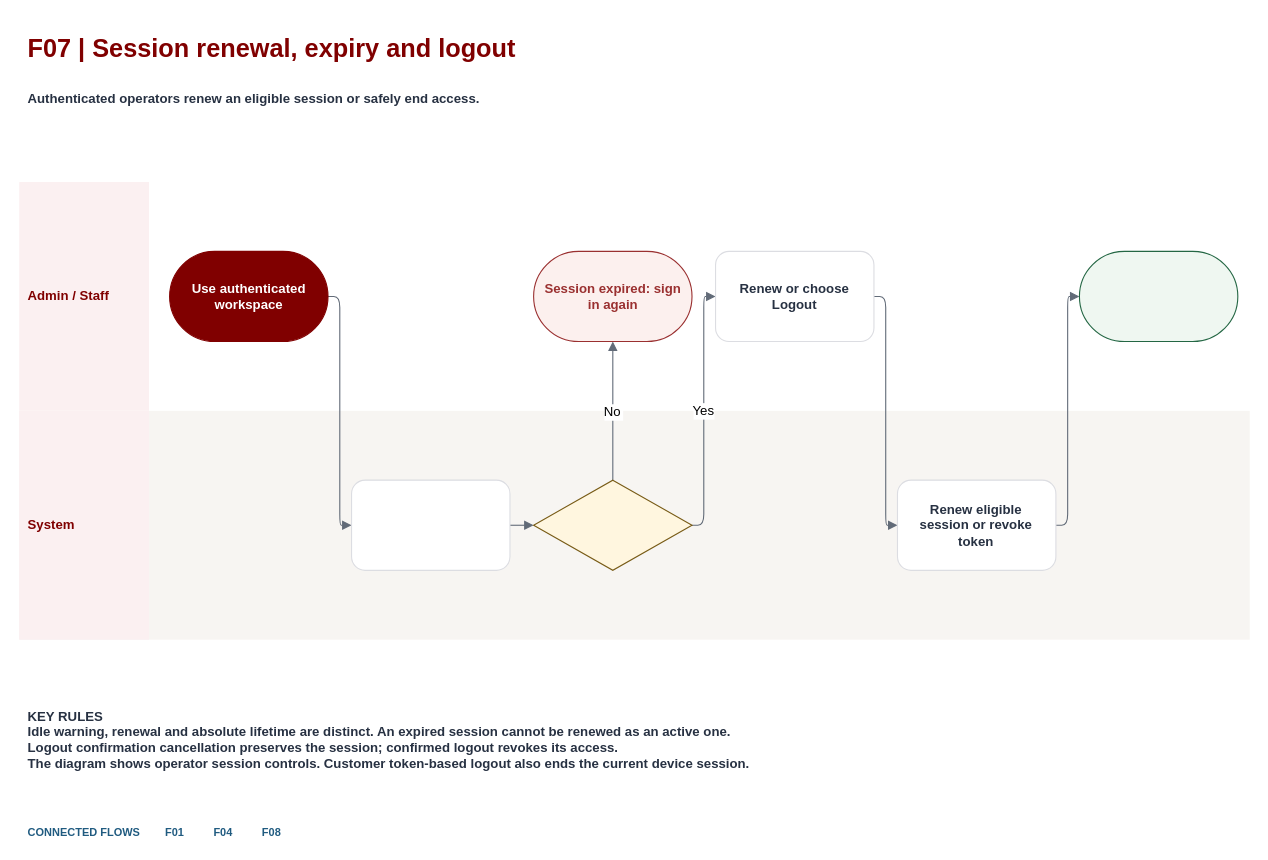
Some shapes in this 1268 by 860 pixel diagram are drawn without their labels. The shapes that lost their labels are listed below. From the top down, each one's box as (x1, y1, x2, y2) in pixels, then its label:
(1078, 250, 1238, 342): Continue or return to sign-in
(350, 479, 510, 570): Track idle and absolute expiry
(533, 479, 692, 570): Session valid?
